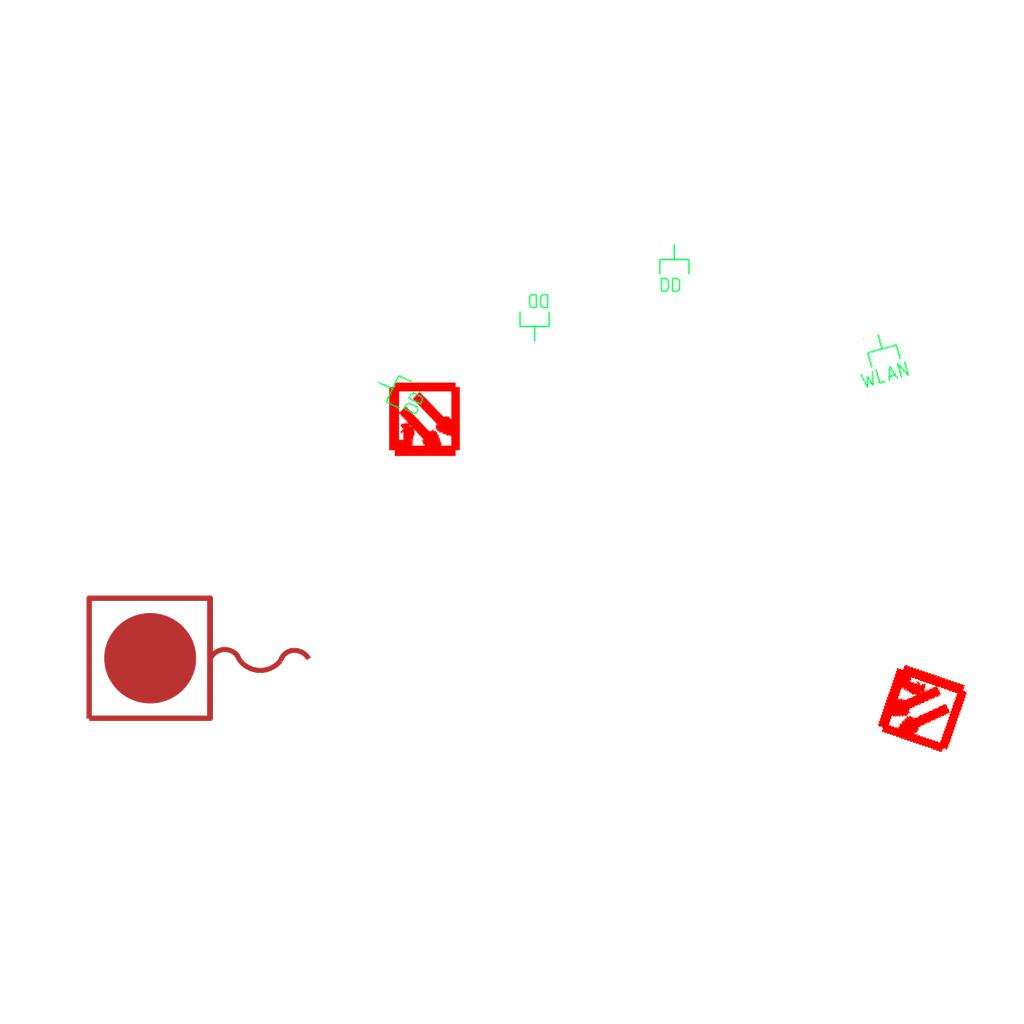Datenanschluss_zweifach: (370, 366, 431, 420), (518, 292, 552, 343), (657, 243, 691, 294)
OT_Multisensormelder_(Kombination_RMO_WMD): (848, 635, 993, 780), (368, 365, 481, 478)
WLAN: (847, 326, 913, 392)
Zugtaster: (78, 588, 322, 732)
